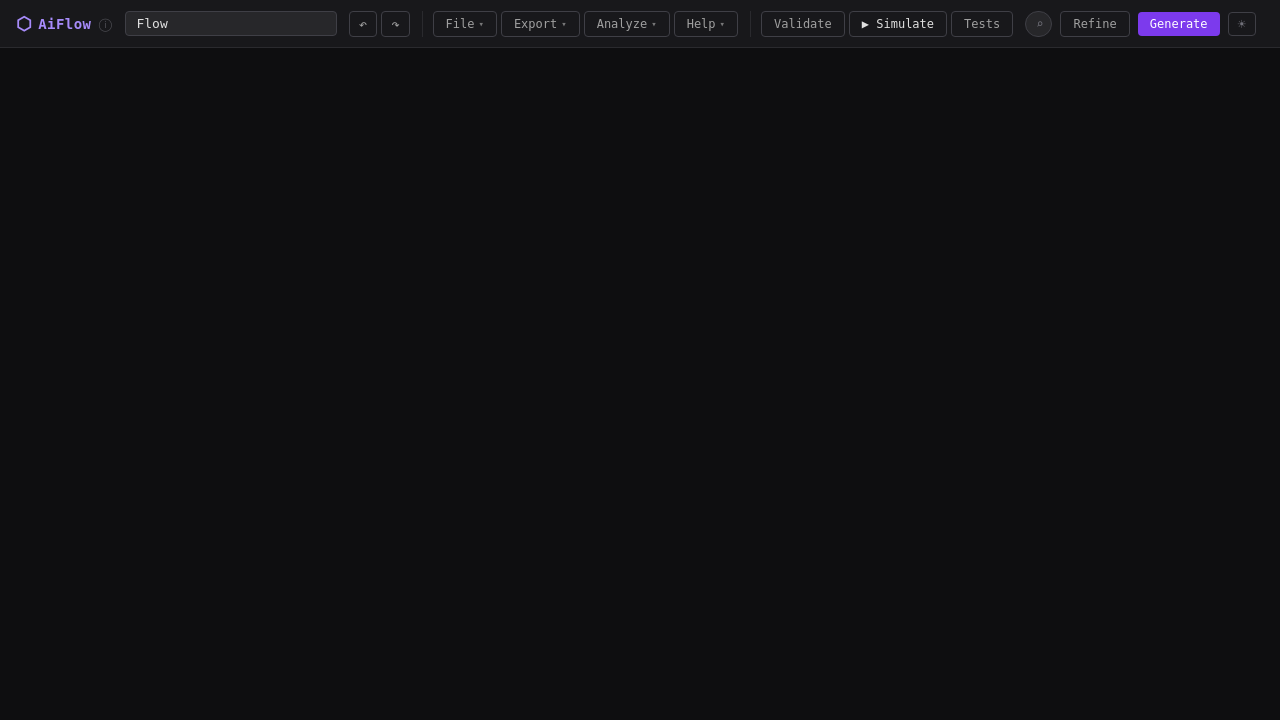
Test case: Toolbar — command palette › opens from the button and from Ctrl+K, and closes on Escape
Step 1. Click the button named "Search actions" → click(1039, 24), box [1025, 10, 1052, 36]
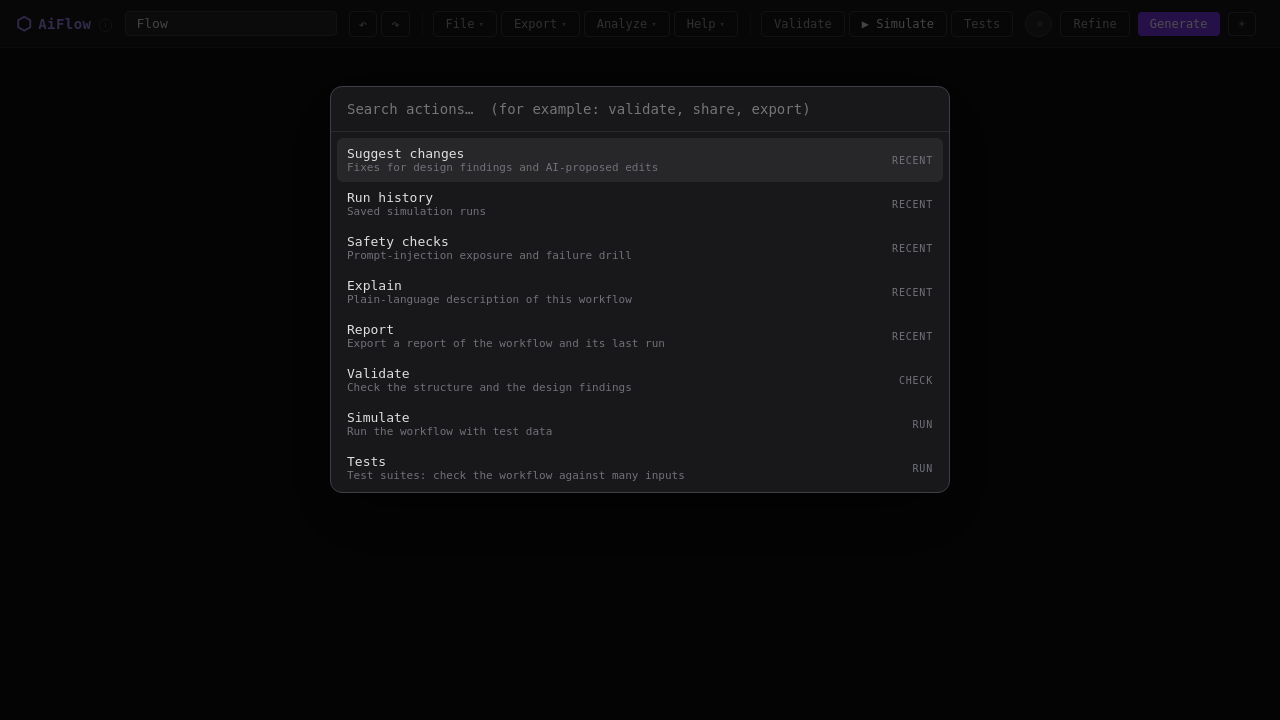
Check: the dialog named "Command palette" is shown
Step 2. Press Escape in the dialog, box [330, 86, 950, 493]
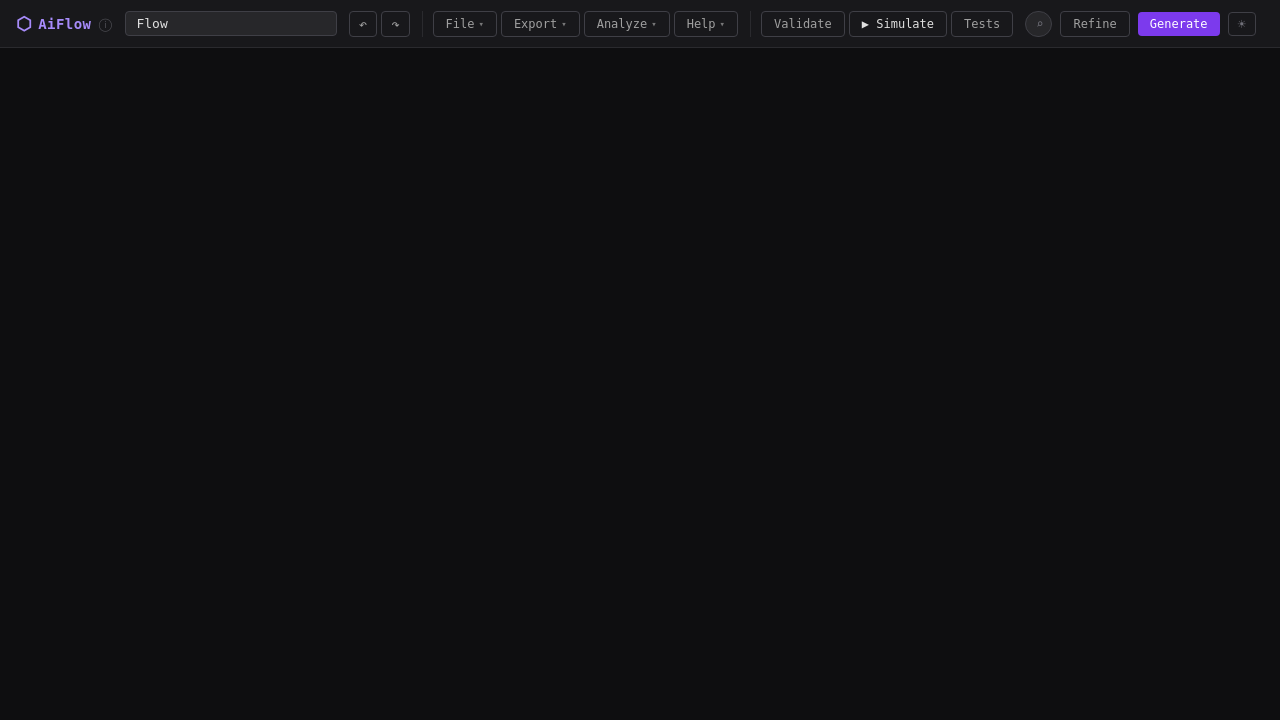
Check: the dialog is gone
Step 3. Press k
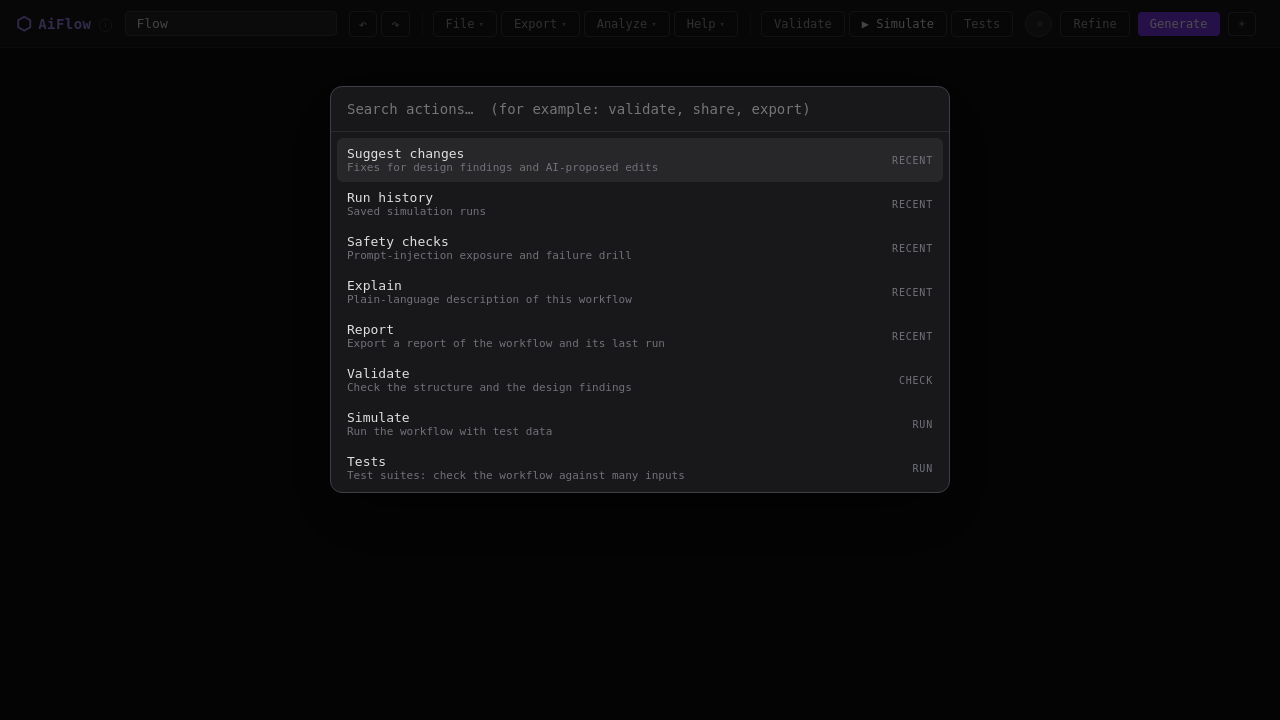
Check: the dialog named "Command palette" is shown, box [330, 86, 950, 493]
Step 4. Press k
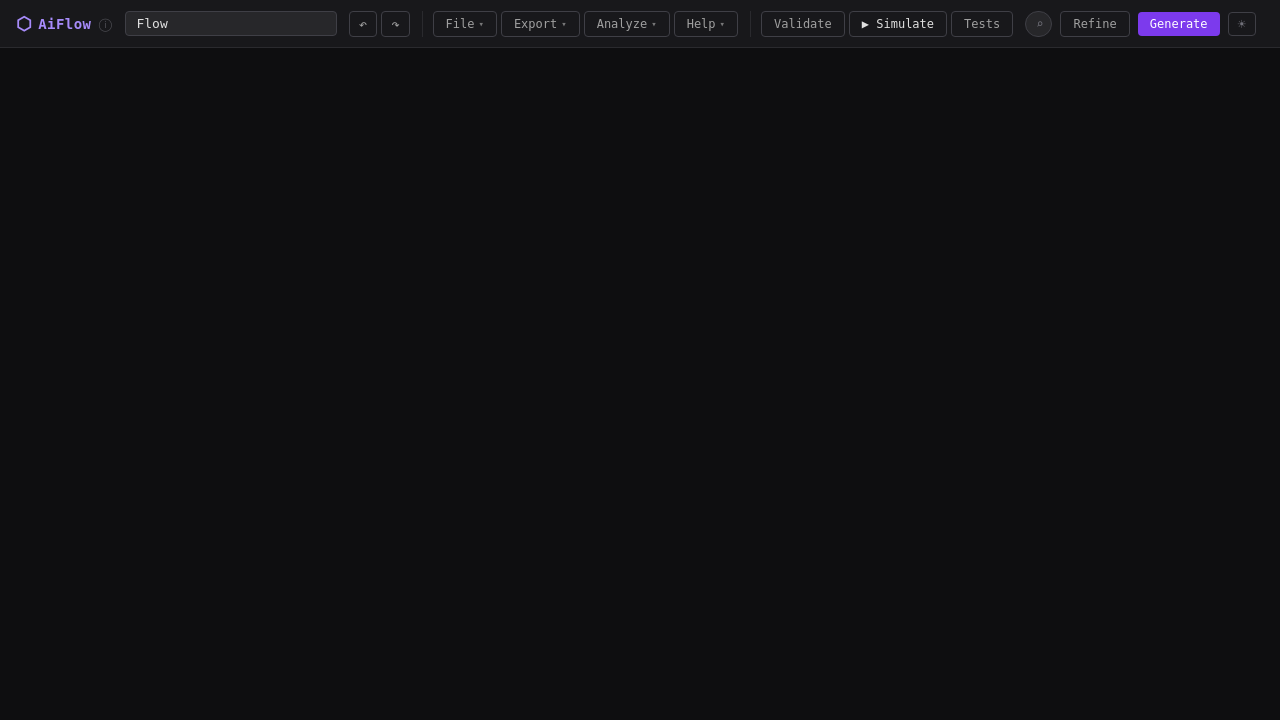
Check: the dialog is gone
